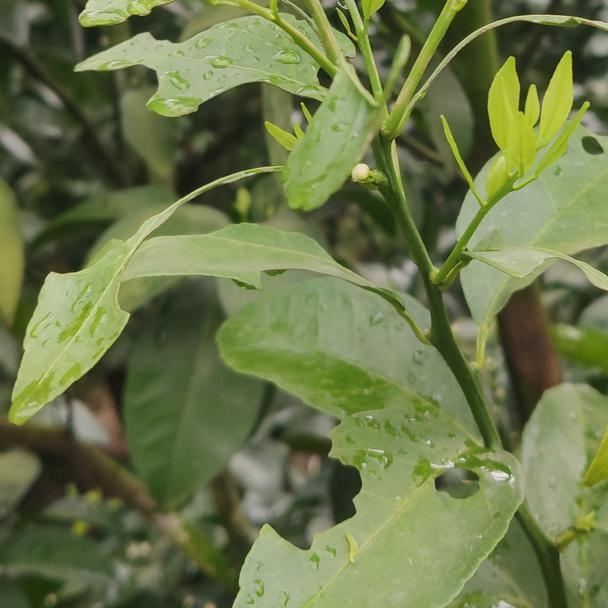shoot: (445, 56, 585, 210)
